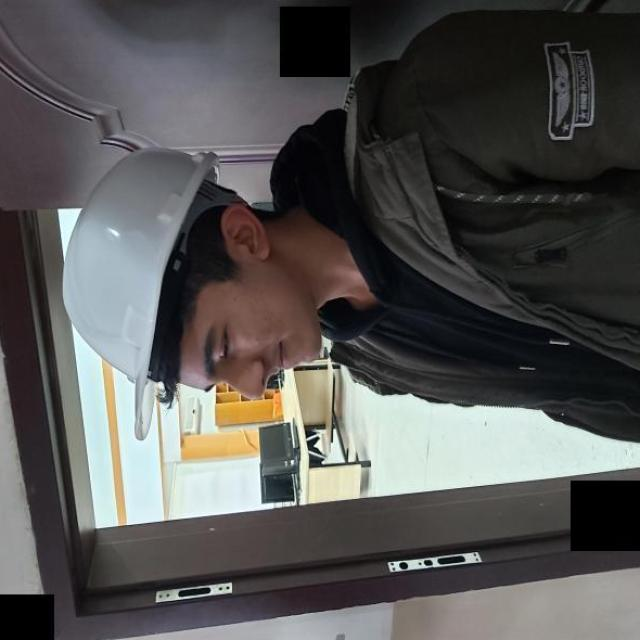helmet: (9, 107, 230, 486)
